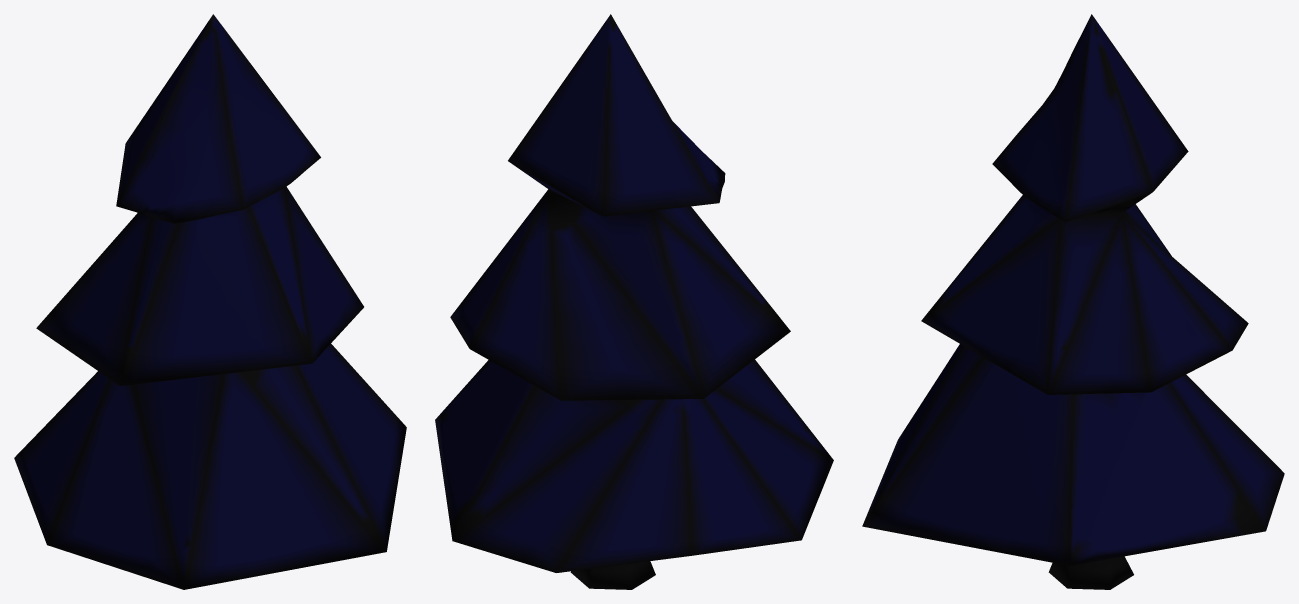
Rendered from KurwaTree01.fbx.
The picture shows the model from 3 angles, left to right: view 1: azimuth 30°, elevation 25°; view 2: azimuth 150°, elevation 25°; view 3: azimuth 270°, elevation 25°; orthographic projection. The views are drawn at different scales.
Parts seen in each view (by area): view 1: KurwaTree01; view 2: KurwaTree01; view 3: KurwaTree01.
Part boxes in pixels (x1,y1,x2,y2): KurwaTree01: [14, 14, 406, 589]; KurwaTree01: [435, 14, 833, 589]; KurwaTree01: [862, 14, 1284, 589].
Bounding box in the file's own units: 5.22 × 7.6 × 5.19.
